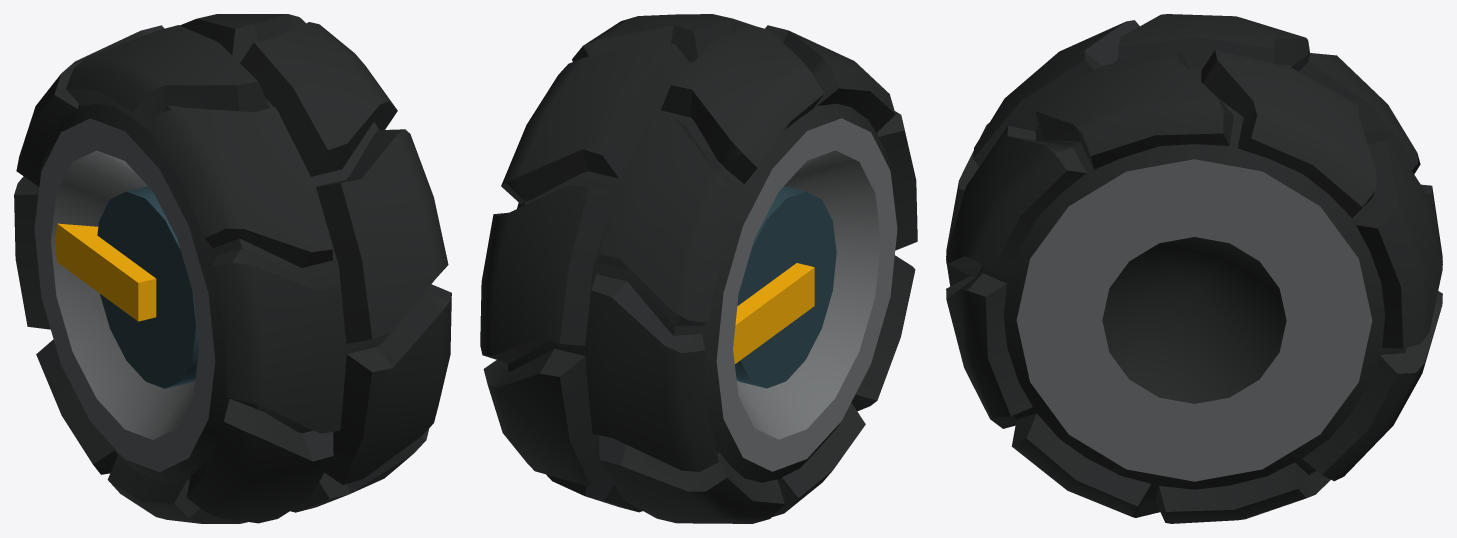
File: Buggy_Wheel_003.fbx
The picture shows the model from 3 angles, left to right: view 1: azimuth 30°, elevation 25°; view 2: azimuth 150°, elevation 25°; view 3: azimuth 270°, elevation 25°; orthographic projection.
Visible parts, largest first — view 1: Buggy_Wheel_003; view 2: Buggy_Wheel_003; view 3: Buggy_Wheel_003.
Boxes of the visible parts, x1,y1,x2,y2 form: Buggy_Wheel_003: (14,14,451,523); Buggy_Wheel_003: (480,14,917,523); Buggy_Wheel_003: (946,14,1442,523).
Size of the model in its own units: 73.98 by 144 by 144.
